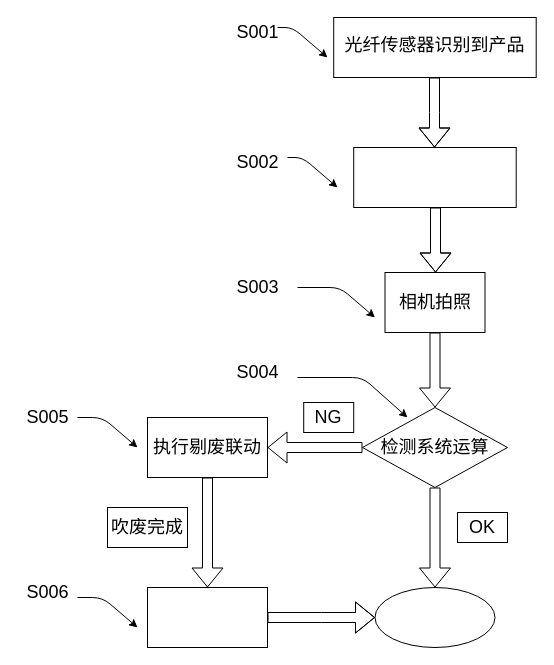
Image size: 554x665. Some labels were removed from this diagram. Each missing label, with the centre of its shape:
产品移动到拍照位: point 434,177
删除NG信号: point 207,617
返回S001: point 434,617
